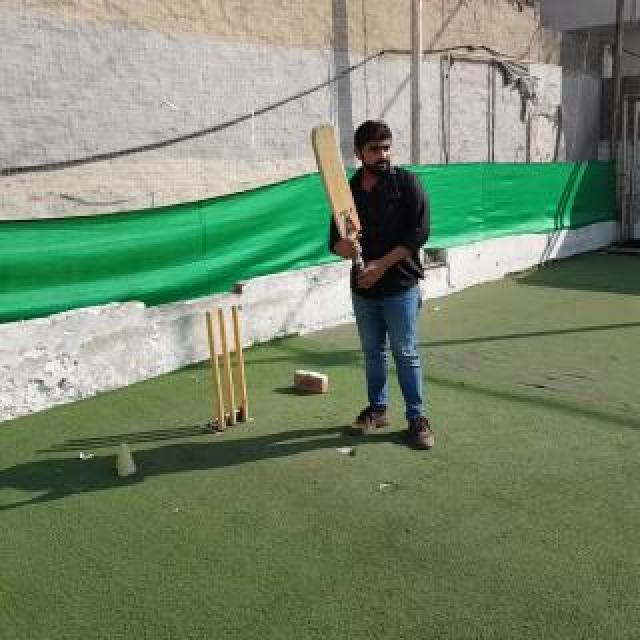bat: (311, 121, 367, 289)
